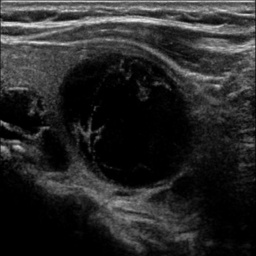mass: (59, 56, 193, 187)
